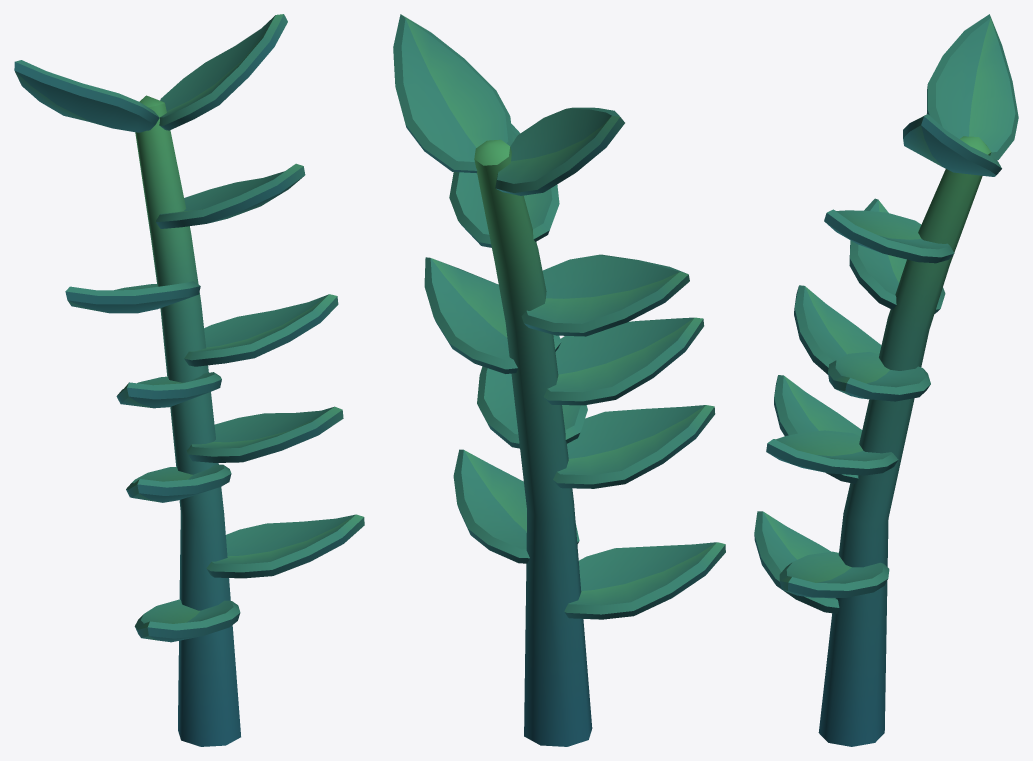
Rendered from ZZ Plant Leaf-FOCkxk03lT.glb.
3 views of the same model, side by side, from view 1: azimuth 30°, elevation 25°; view 2: azimuth 150°, elevation 25°; view 3: azimuth 270°, elevation 25° (orthographic). The views are drawn at different scales.
Visible parts, largest first — view 1: zzplant_leaf_medium_B; view 2: zzplant_leaf_medium_B; view 3: zzplant_leaf_medium_B.
Part boxes in pixels (x1=…): zzplant_leaf_medium_B: x1=14, y1=14, x2=364, y2=746; zzplant_leaf_medium_B: x1=393, y1=14, x2=725, y2=746; zzplant_leaf_medium_B: x1=754, y1=14, x2=1018, y2=746.
Size of the model in its own units: 0.6299 by 1.55 by 0.5549.
1 material, 1 textured.
